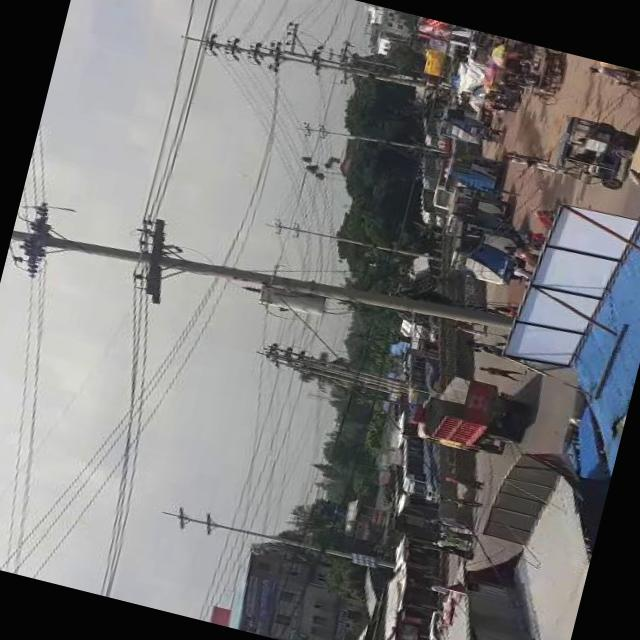bus: (444, 215, 520, 283), (389, 428, 452, 500), (444, 144, 506, 198), (442, 180, 503, 234), (397, 346, 448, 406), (434, 95, 484, 146), (425, 157, 471, 210), (410, 185, 448, 222)
motorcycle: (550, 108, 636, 194), (502, 242, 540, 276), (525, 202, 557, 226)
truck: (406, 365, 530, 462)
